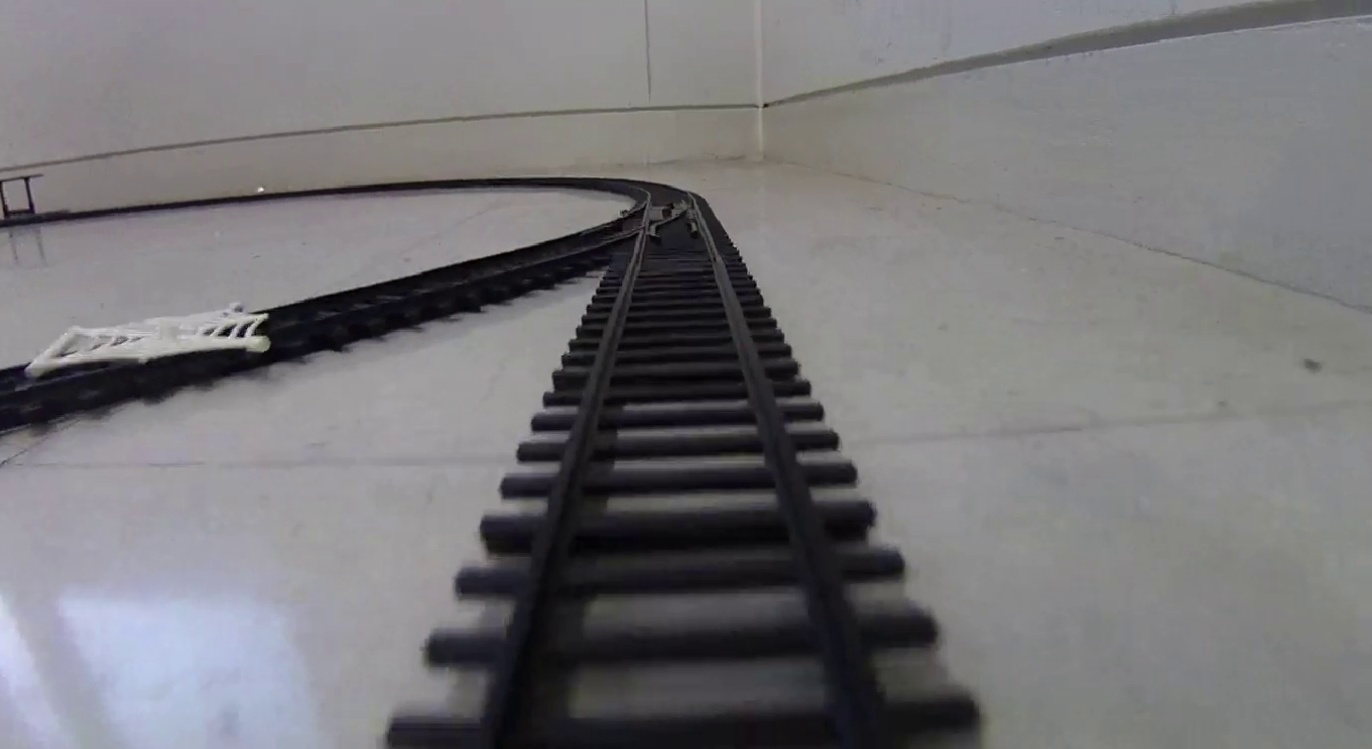web: (36, 307, 267, 364)
